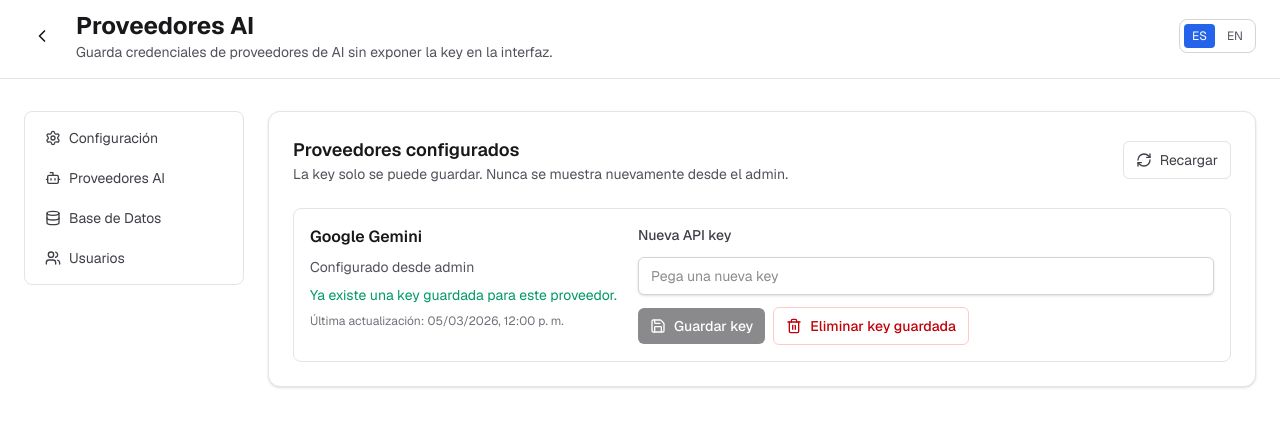
Test case: AdminAiProvidersPage › shows save error when provider key save fails
Step 1. Type "another-secret" into the password field with test id "provider-key-input-gemini" → (926, 276), box [638,257,1214,295]
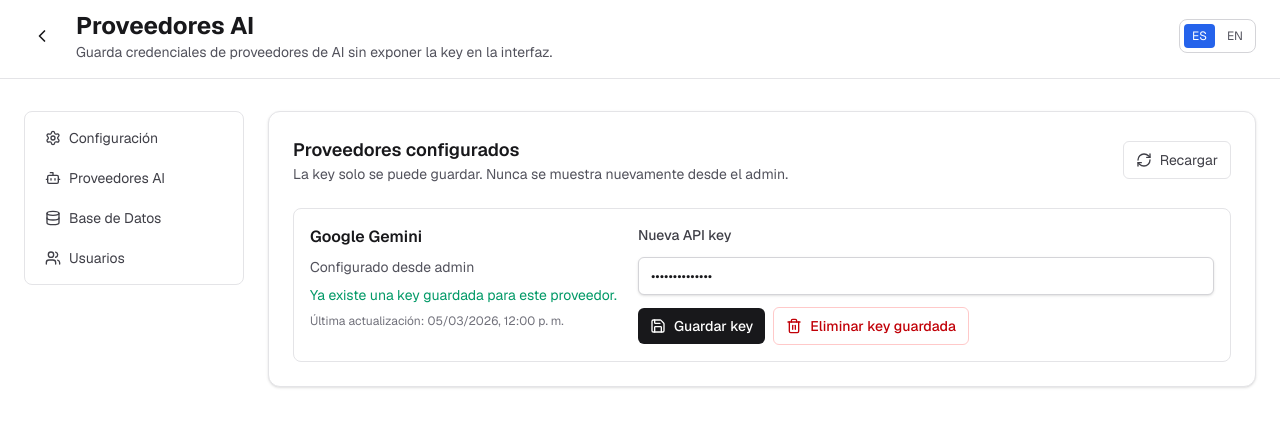
Step 2. Click the button with test id "save-provider-gemini" → (702, 326), box [638,308,765,344]
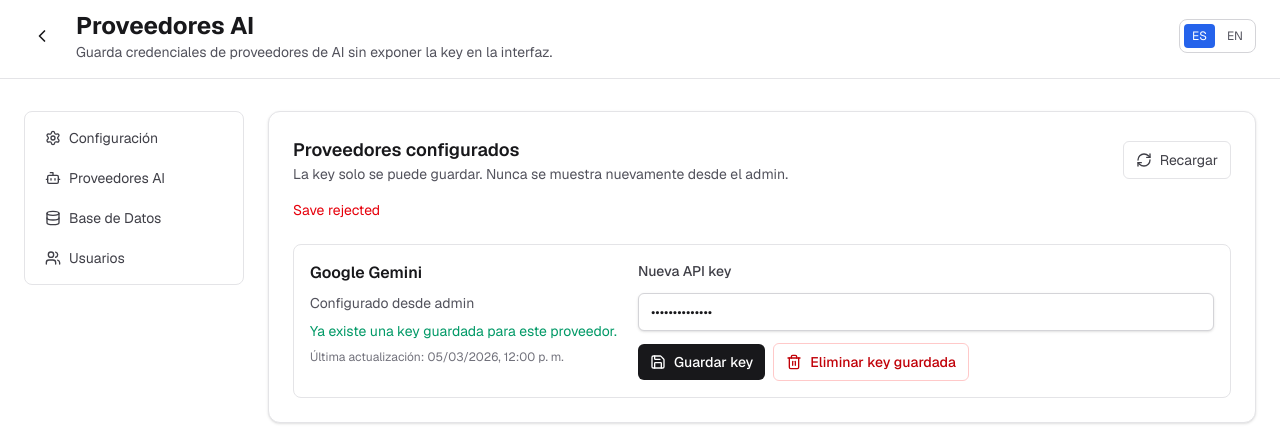
Expected: the text "Save rejected" is shown, [293,201,380,219]
